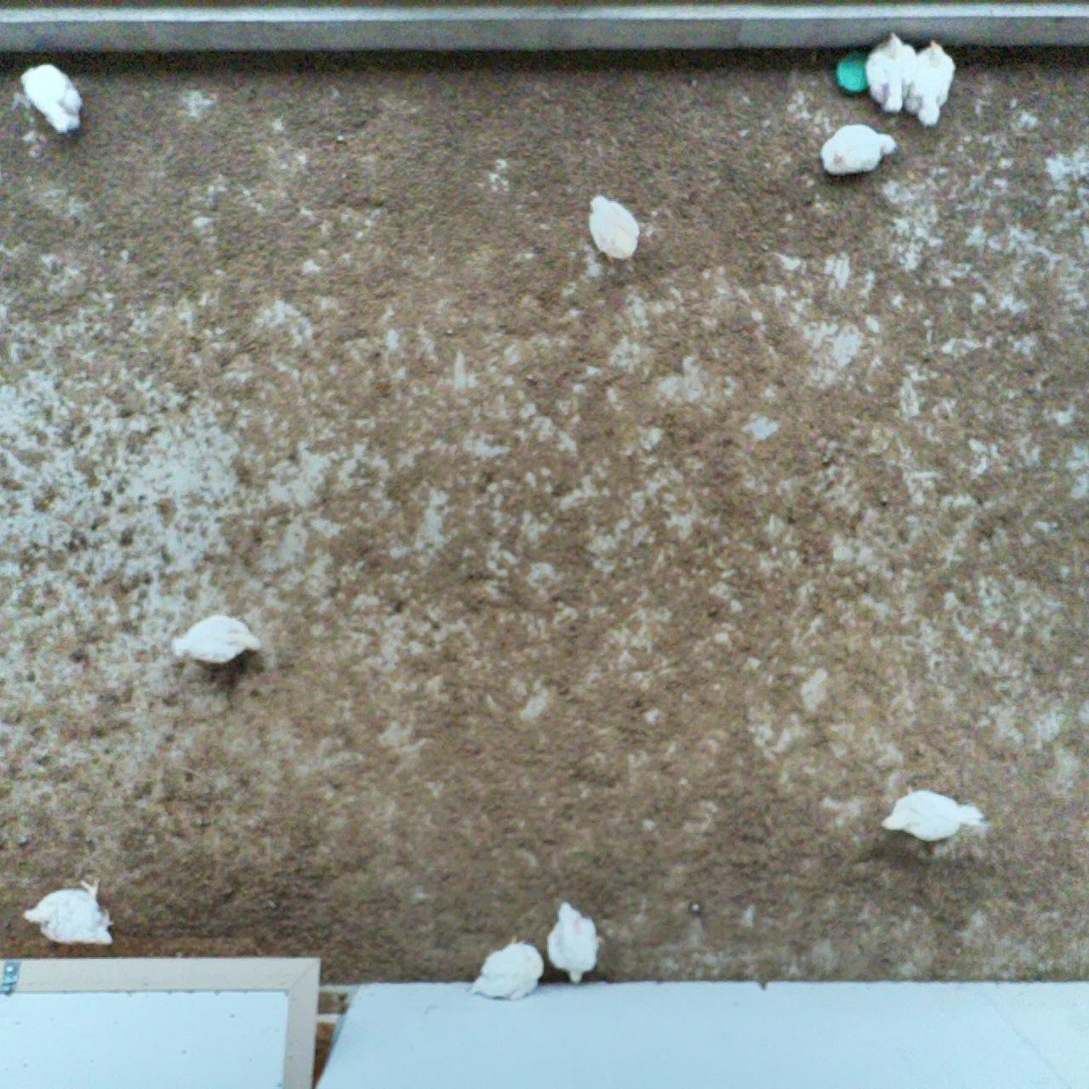chicken: (24, 870, 115, 948), (882, 782, 984, 847), (467, 938, 549, 1007), (542, 896, 604, 986), (169, 610, 261, 666), (19, 59, 84, 136), (907, 37, 959, 130), (864, 30, 920, 115), (819, 121, 897, 181), (586, 191, 641, 265)
